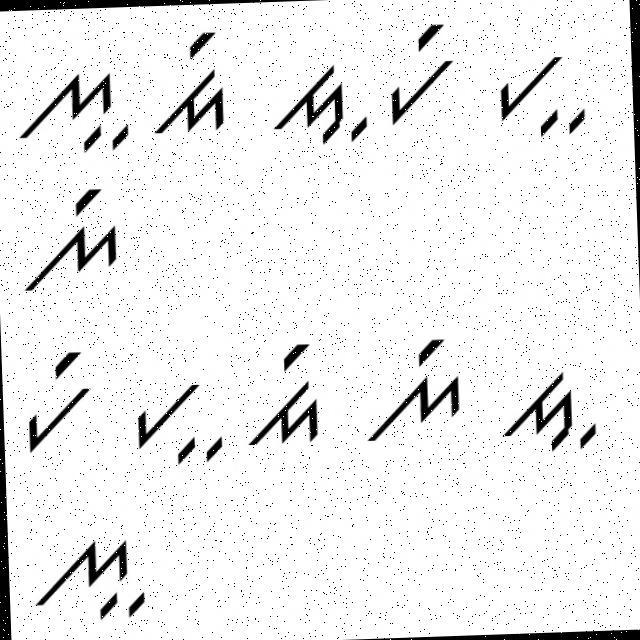dah: (498, 350, 604, 456), (260, 56, 370, 150)
dang: (238, 338, 332, 456), (148, 24, 238, 144)
nah: (33, 525, 150, 630), (9, 67, 132, 165)
nang: (355, 329, 470, 456), (17, 182, 126, 302)
pah: (482, 34, 592, 148), (124, 362, 225, 476)
pang: (18, 343, 100, 454), (381, 20, 458, 128)
